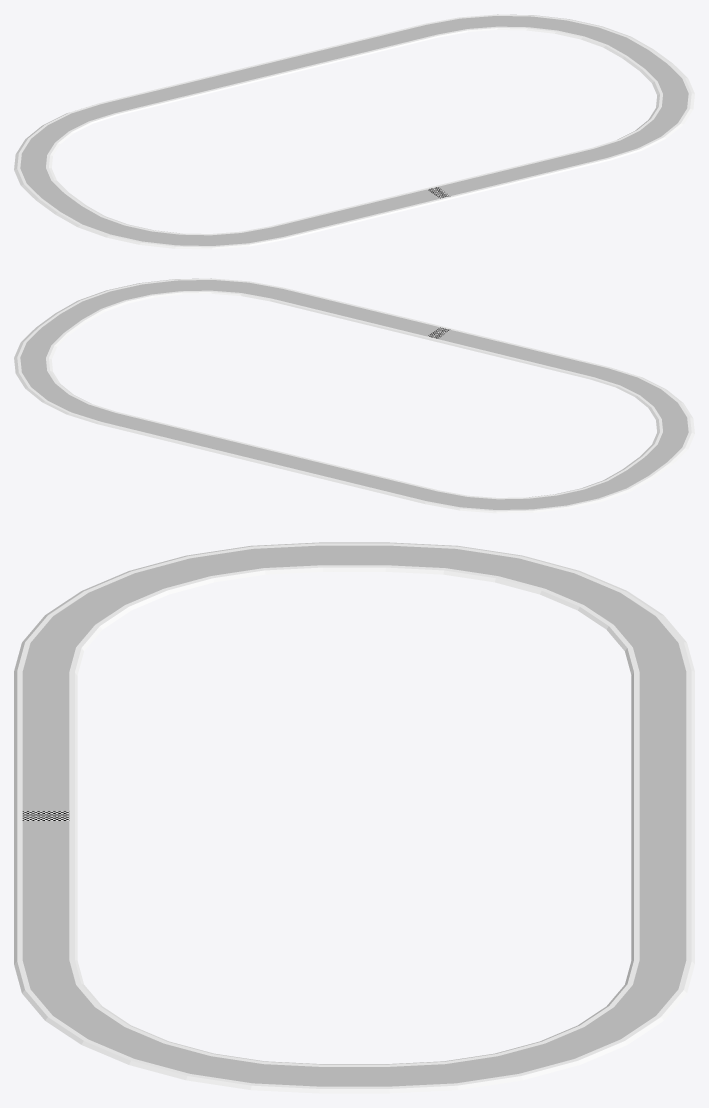
File: aws_Track_05_visual.DAE
The picture shows the model from 3 angles, top to bottom: view 1: azimuth 30°, elevation 25°; view 2: azimuth 150°, elevation 25°; view 3: azimuth 270°, elevation 25°; orthographic projection. The views are drawn at different scales.
Parts seen in each view (by area): view 1: aws_Track_05_visual; view 2: aws_Track_05_visual; view 3: aws_Track_05_visual.
Part boxes in pixels (left/top/right/bottom): aws_Track_05_visual: left=14, top=14, right=694, bottom=249; aws_Track_05_visual: left=14, top=278, right=694, bottom=513; aws_Track_05_visual: left=14, top=542, right=694, bottom=1093.
Bounding box in the file's own units: 6341 × 3312 × 10.
